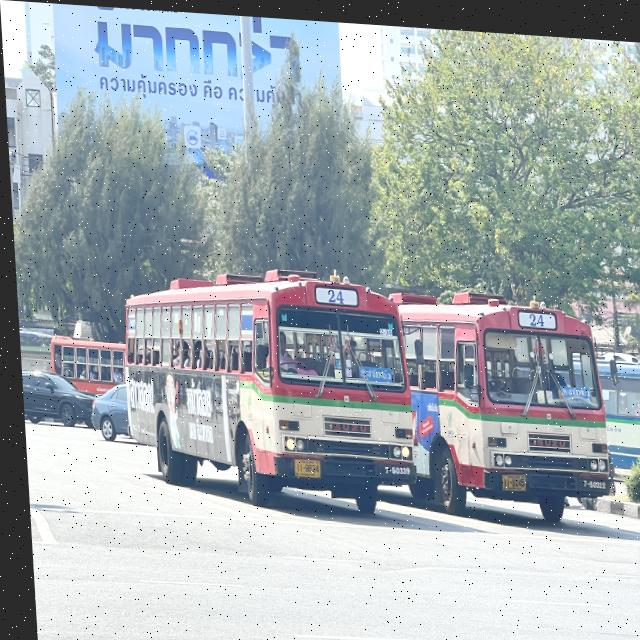BMTA-bus: (116, 259, 415, 514), (391, 285, 612, 520)
Bus-Line-Number: (310, 280, 356, 303), (518, 305, 554, 323)
Destination-Sign-Normal: (555, 378, 588, 399), (354, 360, 388, 378)
